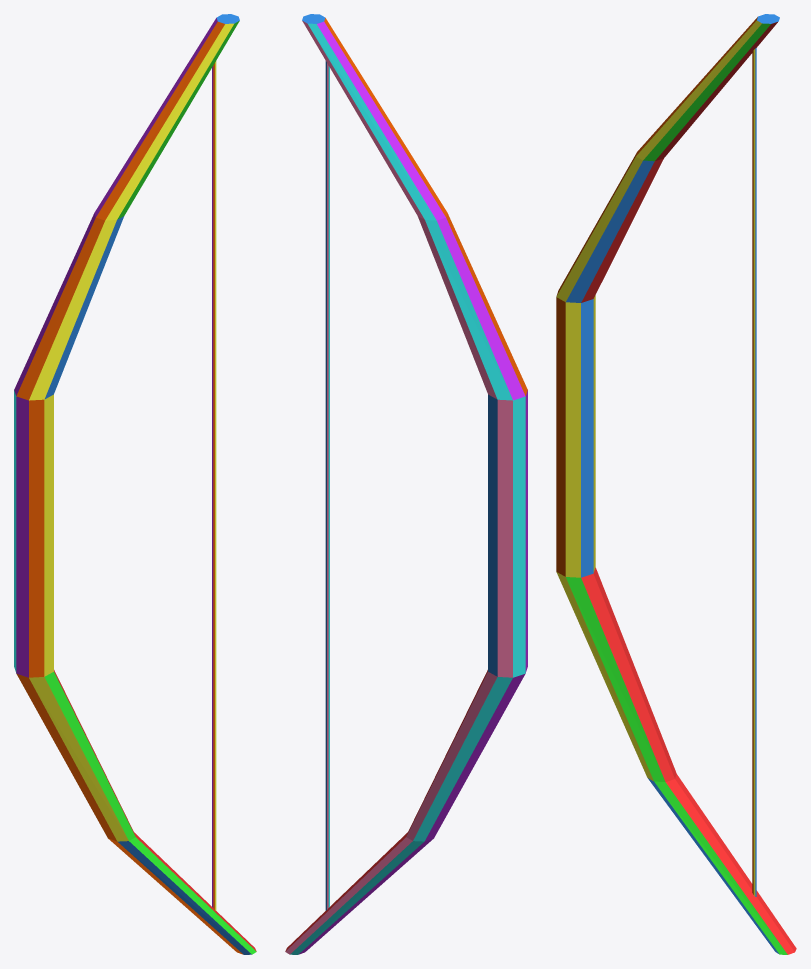
The model's file is bow.obj.
The picture shows the model from 3 angles, left to right: view 1: azimuth 30°, elevation 25°; view 2: azimuth 150°, elevation 25°; view 3: azimuth 330°, elevation 25°; orthographic projection.
Visible parts, largest first — view 1: model; view 2: model; view 3: model.
Boxes of the visible parts, x1=… form: model: x1=14, y1=14, x2=256, y2=954; model: x1=285, y1=14, x2=527, y2=954; model: x1=556, y1=14, x2=796, y2=954.
Size of the model in its own units: 0.3976 by 1.49 by 0.0599.
